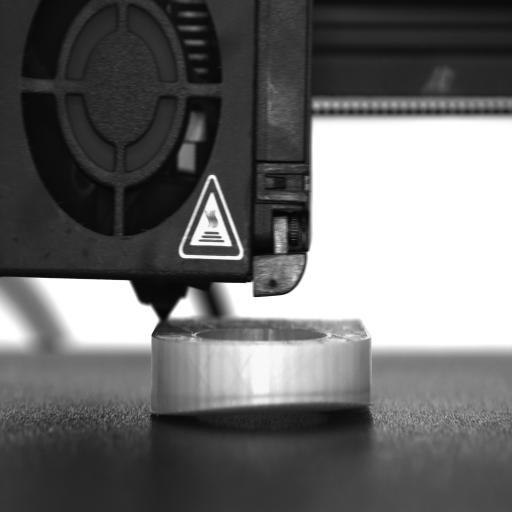warp: (154, 394, 364, 418)
